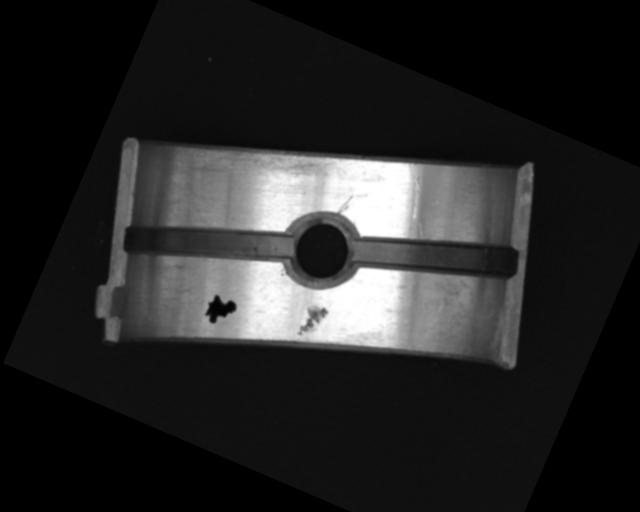blot: (201, 291, 239, 330)
bruise: (295, 300, 329, 342)
gap: (120, 175, 296, 309), (350, 193, 519, 318)
hole: (275, 202, 367, 297)
nick: (390, 161, 437, 220), (334, 191, 354, 218)
scratch: (187, 105, 335, 209)
